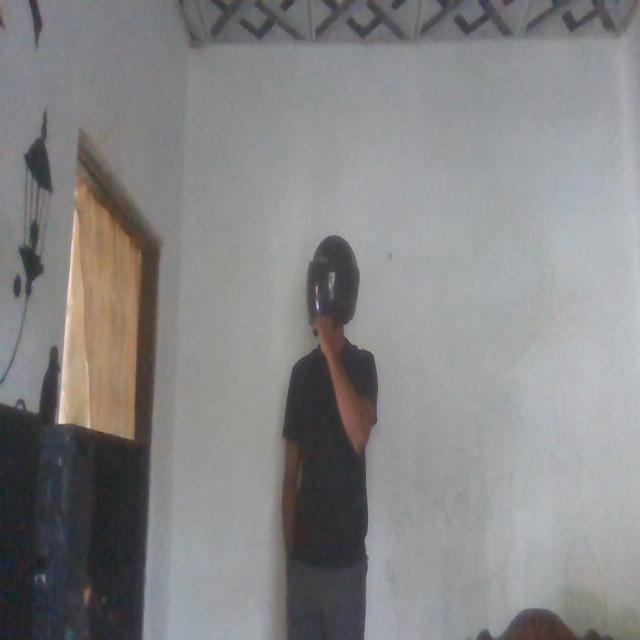Person: (264, 230, 382, 622), (293, 226, 359, 346)
